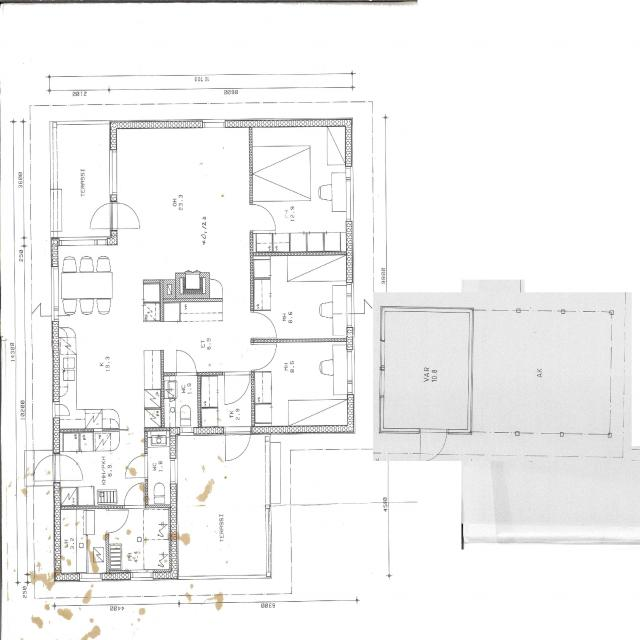door: (420, 430, 447, 464), (225, 426, 249, 462), (224, 372, 250, 404), (52, 454, 82, 481), (30, 454, 60, 481), (110, 203, 140, 229), (86, 203, 116, 229), (251, 344, 276, 370), (251, 204, 276, 230), (251, 312, 276, 337), (124, 455, 148, 478), (124, 483, 144, 509), (106, 511, 128, 533), (177, 350, 196, 375)
